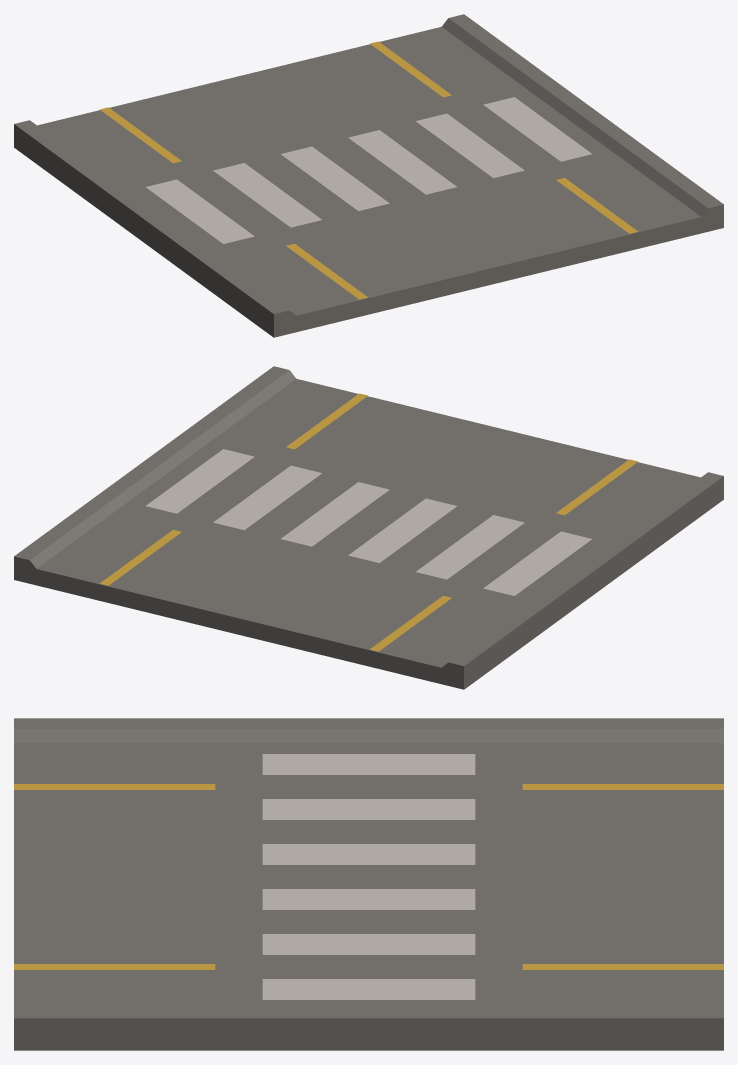
Rendered from road_crossing.gltf.
The picture shows the model from 3 angles, top to bottom: view 1: azimuth 30°, elevation 25°; view 2: azimuth 150°, elevation 25°; view 3: azimuth 270°, elevation 25°; orthographic projection. The views are drawn at different scales.
Visible parts, largest first — view 1: road_crossing; view 2: road_crossing; view 3: road_crossing.
Boxes of the visible parts, x1,y1,x2,y2 form: road_crossing: (14, 14, 723, 337); road_crossing: (14, 366, 723, 689); road_crossing: (14, 718, 723, 1050).
Bounding box in the file's own units: 6 × 0.3 × 6.
